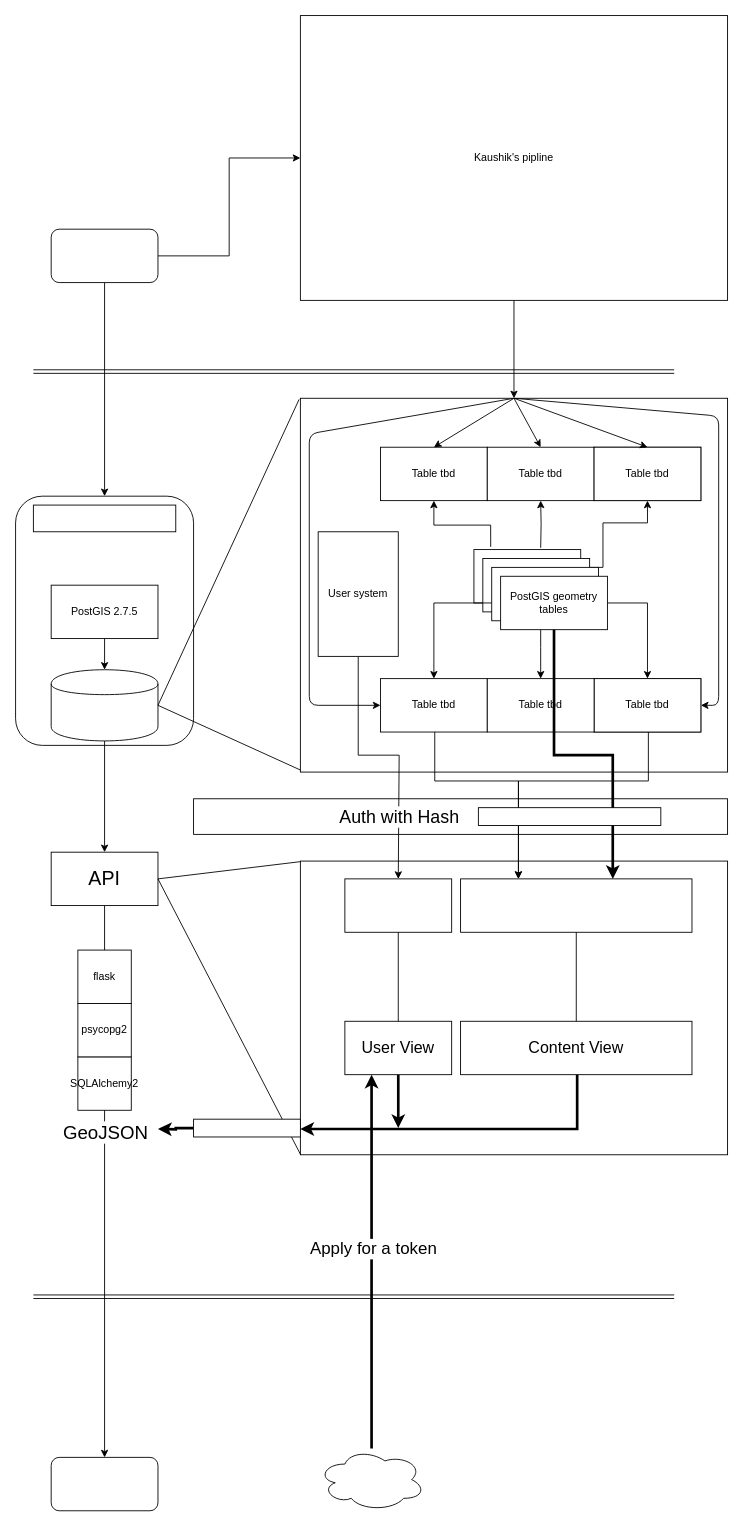
This 743x1526 diagram has some shape labels left out. Each missing label, with the centre of its shape:
"Content Model" belongs at pixel 576 905.
"Data ingestion" belongs at pixel 104 255.
"Debian docker container" belongs at pixel 104 518.
"flask-bcrypt" belongs at pixel 569 816.
"FrontEnd" belongs at pixel 104 1483.
"marshmallow" belongs at pixel 246 1127.
"Other users" belongs at pixel 371 1479.
"Postgres 11" belongs at pixel 104 705.
"User Model" belongs at pixel 398 905.
